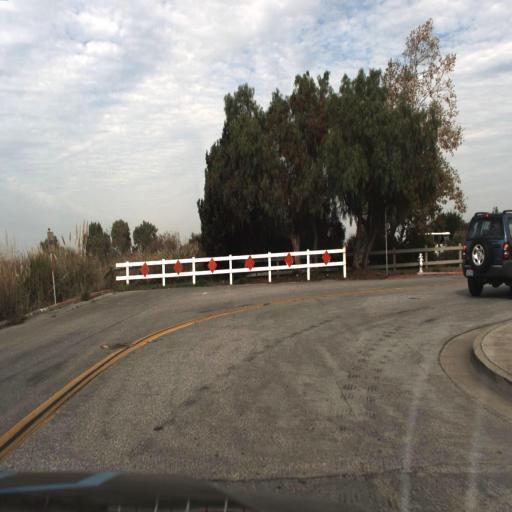car: (462, 209, 512, 297)
